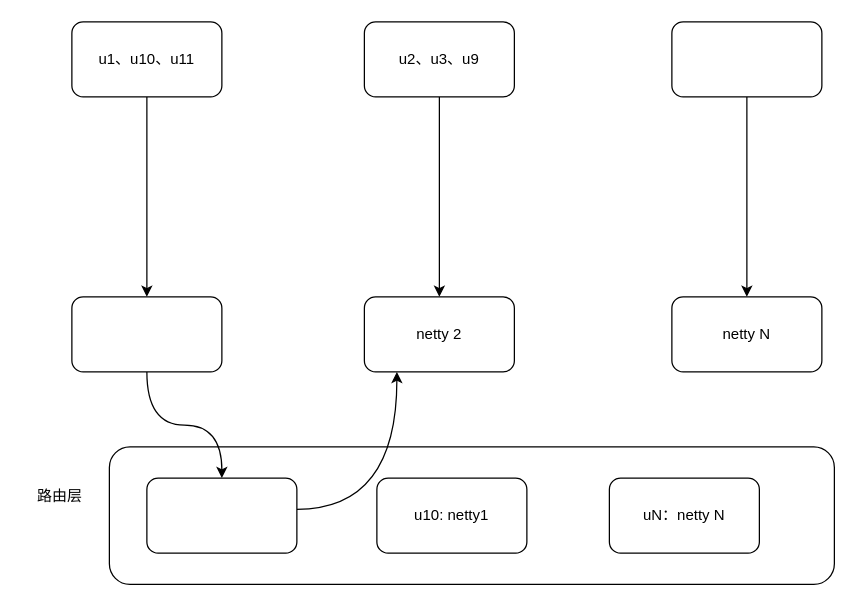
The diagram is 856 pixels wide and 606 high, and some of its shapes have lost their labels. The shapes that lost their labels are listed below. From the top down, each one's centre as x and y in pixels, then its label:
At (x=746, y=59): "uN".
At (x=146, y=334): "netty 1".
At (x=221, y=515): "u2：netty2".
